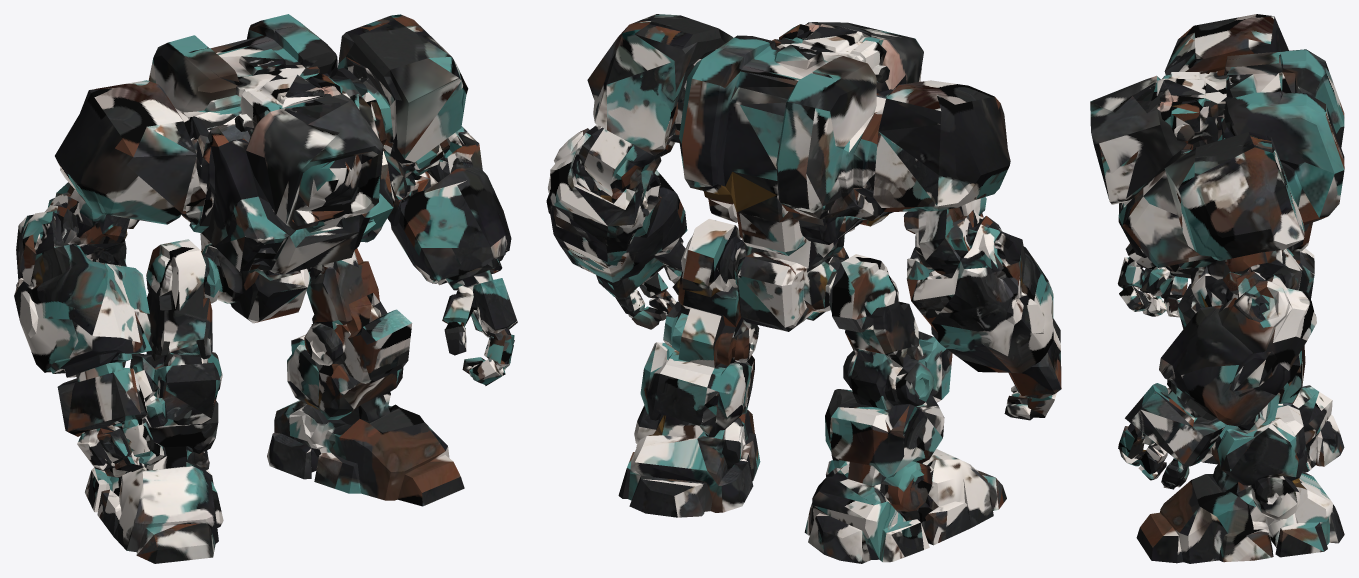
Rendered from heavy_meshy_flat.fbx.
3 views of the same model, side by side, from view 1: azimuth 30°, elevation 25°; view 2: azimuth 150°, elevation 25°; view 3: azimuth 270°, elevation 25° (orthographic). The views are drawn at different scales.
Parts seen in each view (by area): view 1: output_unwrapped; view 2: output_unwrapped; view 3: output_unwrapped.
Boxes of the visible parts, box(x1,y1,x2,y2) form: output_unwrapped: box(14, 14, 517, 563); output_unwrapped: box(546, 14, 1061, 563); output_unwrapped: box(1090, 14, 1344, 563).
Size of the model in its own units: 1.9 by 1.69 by 0.9408.
